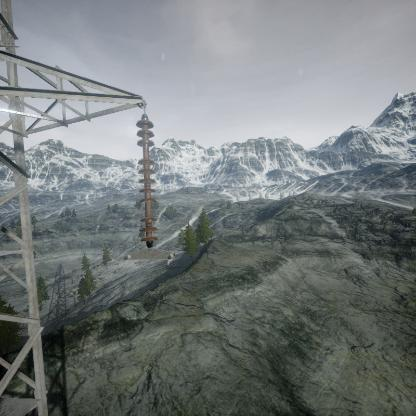insulator: (135, 113, 159, 248)
